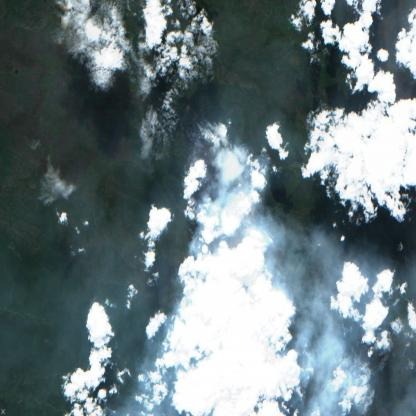fire: (179, 115, 268, 273)
